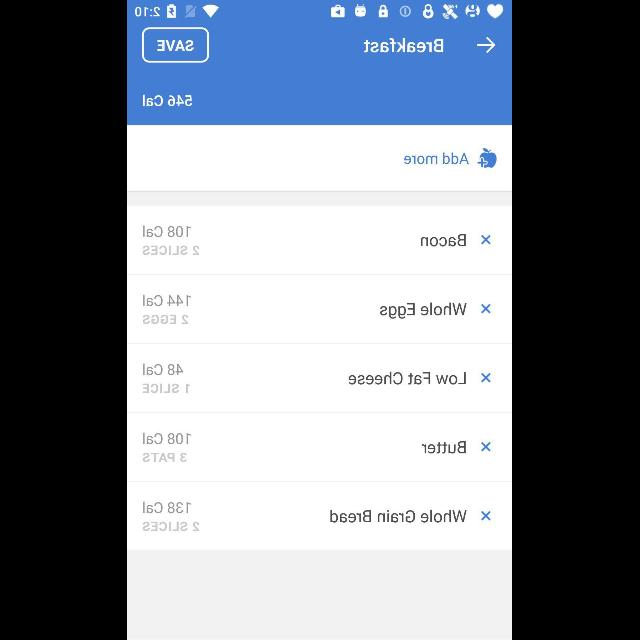icon: (478, 36, 497, 54), (482, 511, 492, 521), (482, 442, 492, 452), (481, 373, 491, 383), (481, 235, 491, 245), (481, 304, 491, 314)
image: (478, 148, 498, 168)
text: (330, 510, 468, 522), (380, 302, 468, 320), (349, 372, 466, 384), (364, 38, 444, 52), (404, 153, 470, 165), (143, 95, 193, 107), (144, 501, 192, 513), (144, 433, 192, 445), (144, 295, 192, 307), (144, 226, 192, 238), (144, 521, 200, 531), (144, 245, 200, 255), (422, 442, 466, 454), (422, 234, 466, 246), (143, 364, 184, 376), (143, 383, 191, 393), (143, 314, 189, 324), (143, 452, 187, 462)
textbutton: (143, 27, 210, 63)
uppertaskbar: (128, 1, 512, 21)
